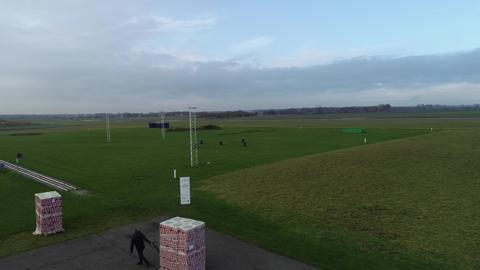RockwoolPallet: (35, 192, 63, 232)
